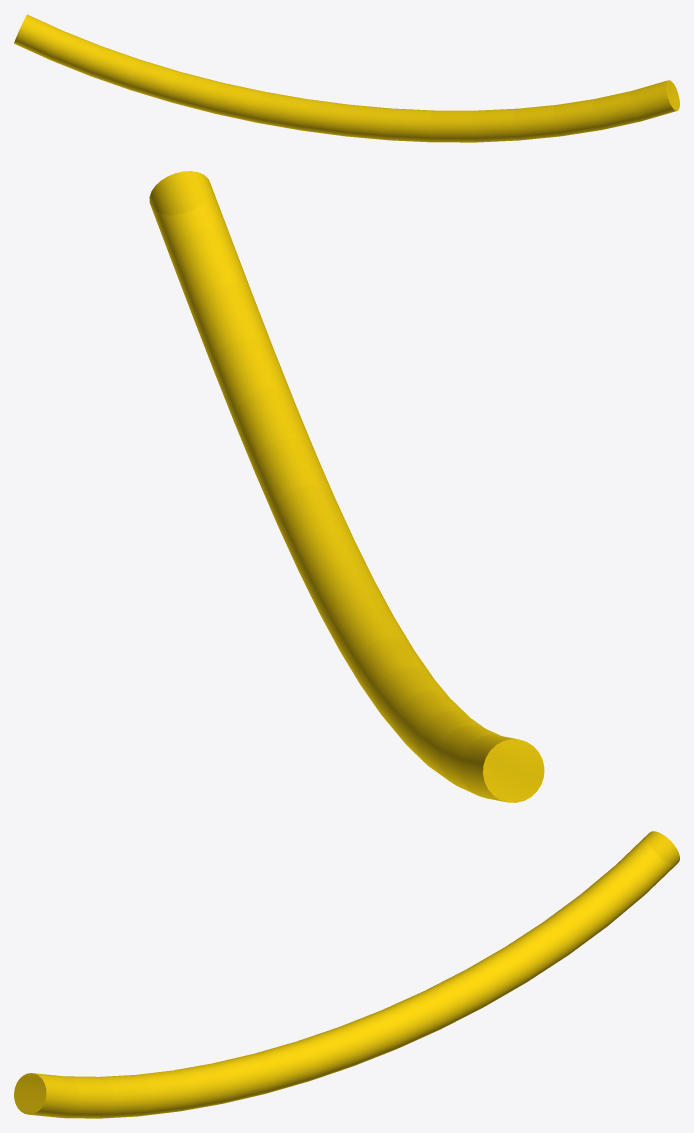
Rendered from Event_421115418_track_112.fbx.
3 views of the same model, one above another, from view 1: azimuth 30°, elevation 25°; view 2: azimuth 150°, elevation 25°; view 3: azimuth 270°, elevation 25° (orthographic). The views are drawn at different scales.
Parts seen in each view (by area): view 1: Model; view 2: Model; view 3: Model.
Boxes of the visible parts, x1,y1,x2,y2 form: Model: (14, 14, 679, 142); Model: (149, 171, 544, 802); Model: (14, 831, 679, 1118).
Bounding box in the file's own units: 0.6194 × 0.1261 × 0.6368.
